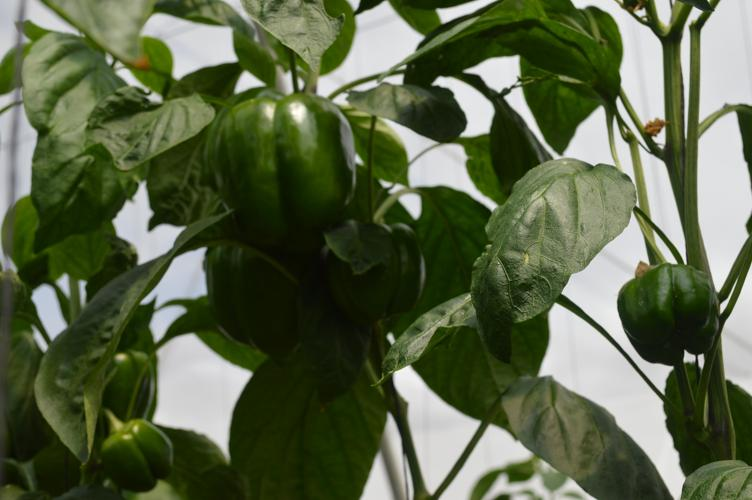BellPepper: (210, 91, 353, 230), (198, 247, 298, 363), (613, 266, 718, 362), (329, 225, 426, 325), (95, 419, 170, 487), (94, 353, 155, 418)
